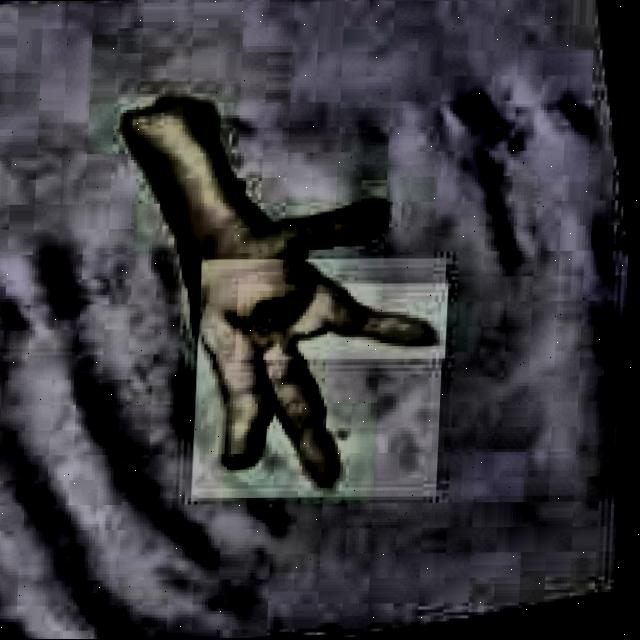Bumble foot: (236, 283, 310, 346)
